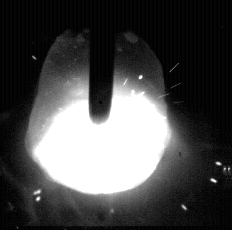arame: (90, 0, 113, 124)
poca: (25, 0, 171, 230)
